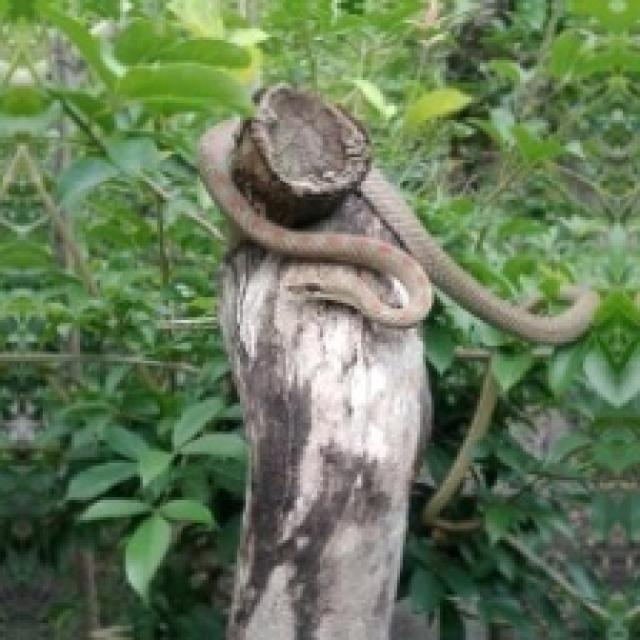paradise tree snake: (197, 120, 594, 343)
